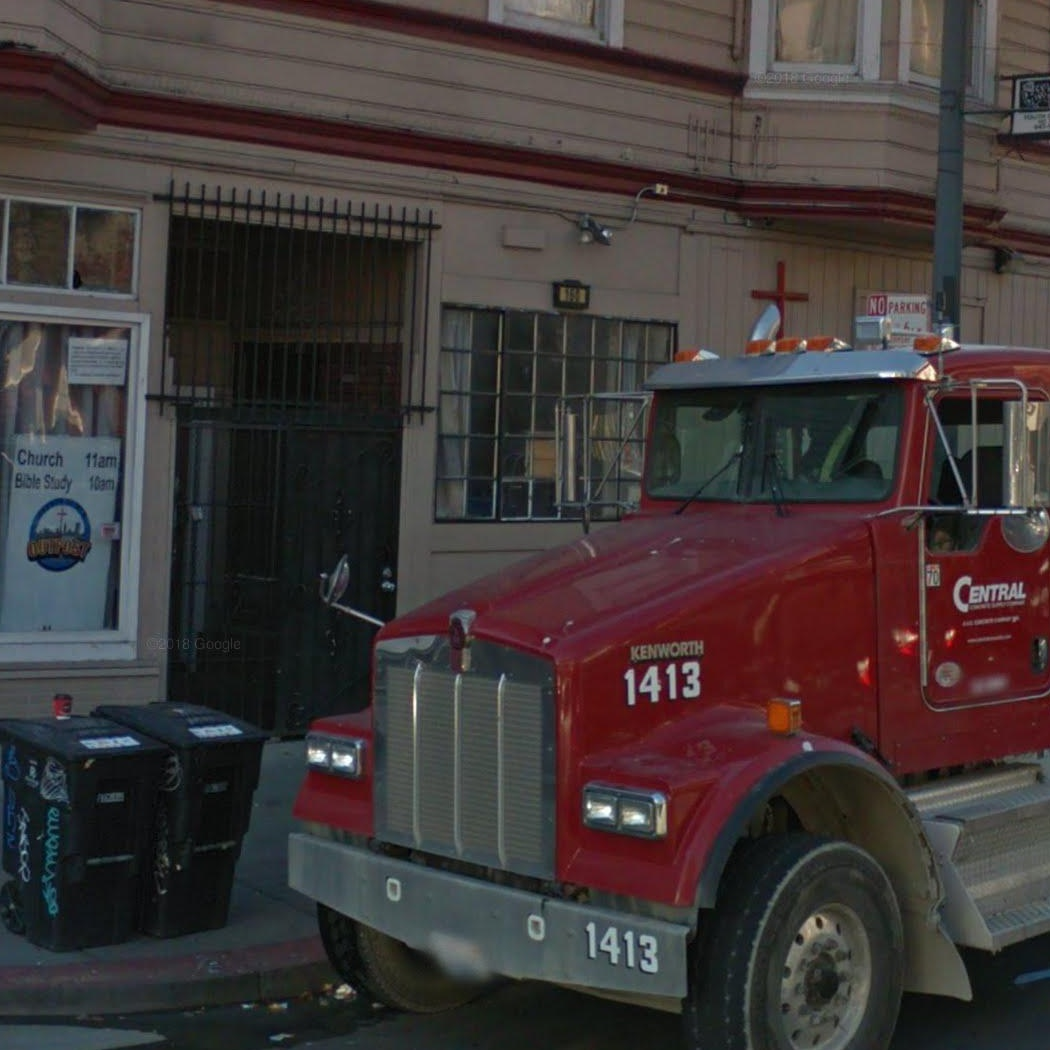No Parking: (867, 293, 930, 348)
